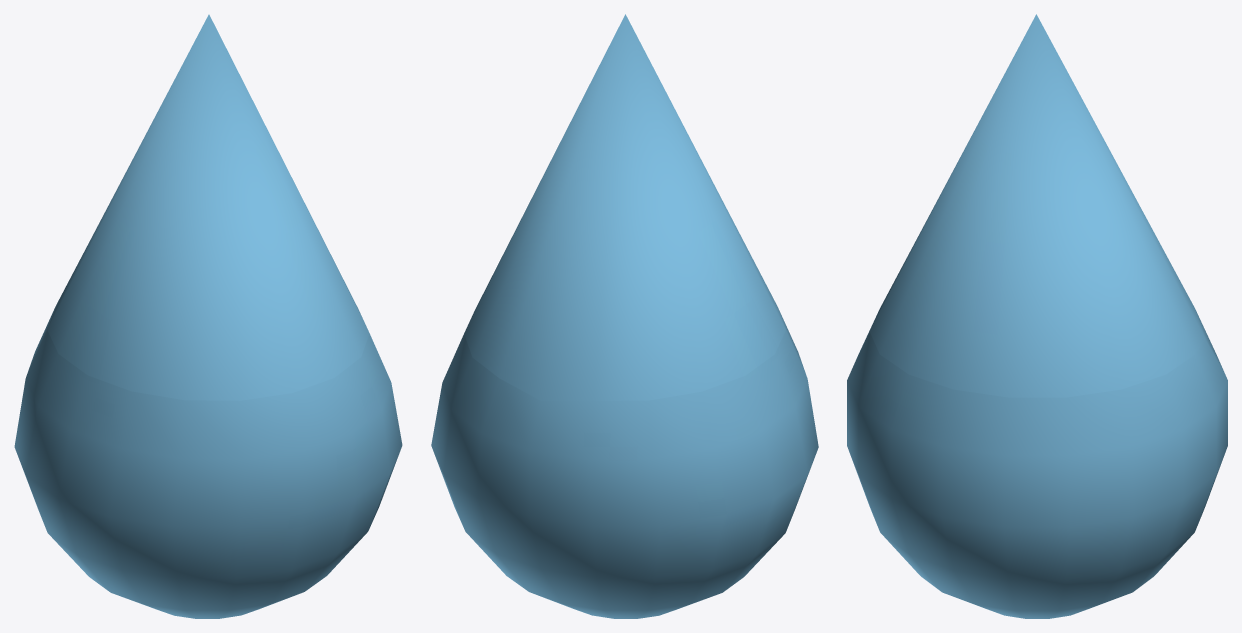
Rendered from sizuku.fbx.
3 renders of one model, left to right at view 1: azimuth 30°, elevation 25°; view 2: azimuth 150°, elevation 25°; view 3: azimuth 270°, elevation 25°, orthographic.
Parts seen in each view (by area): view 1: Sphere001; view 2: Sphere001; view 3: Sphere001.
Part boxes in pixels (left/top/right/bottom): Sphere001: left=14, top=14, right=402, bottom=618; Sphere001: left=431, top=14, right=818, bottom=618; Sphere001: left=847, top=14, right=1227, bottom=618.
Size of the model in its own units: 55.18 by 93.32 by 54.76.
Materials: 1 (1 with a texture image).
